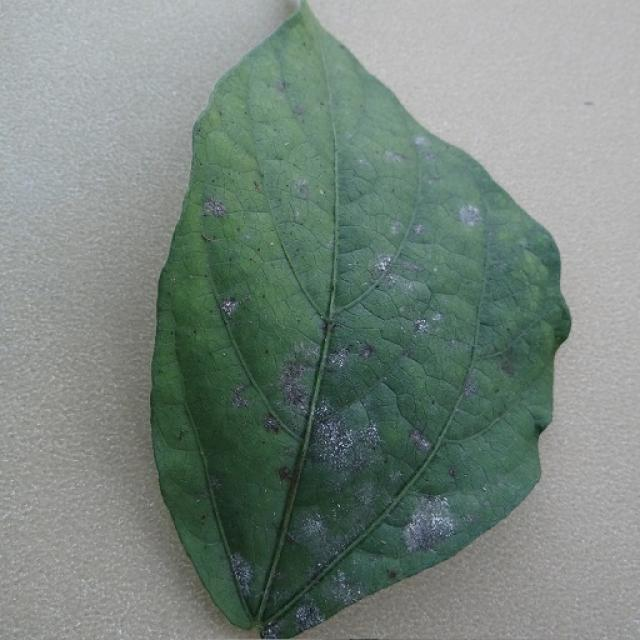Blackgram: (151, 4, 570, 636)
Powdery_Mildew: (309, 408, 372, 475), (397, 491, 459, 552), (373, 261, 429, 309), (277, 357, 312, 412), (293, 511, 333, 552), (352, 478, 386, 513), (324, 343, 359, 376), (230, 557, 254, 592), (330, 568, 353, 596), (409, 429, 432, 454), (423, 311, 447, 333), (458, 204, 481, 226), (203, 198, 227, 219), (372, 255, 394, 277), (231, 385, 250, 409), (461, 376, 478, 399), (403, 533, 421, 553), (305, 607, 323, 627), (293, 179, 310, 199), (220, 298, 238, 316), (262, 415, 280, 433), (296, 606, 313, 625), (385, 150, 406, 165), (387, 468, 404, 486), (413, 318, 429, 334), (209, 475, 223, 492), (389, 222, 403, 237), (414, 135, 429, 148), (413, 223, 427, 236), (423, 150, 436, 162), (517, 237, 528, 248), (358, 157, 369, 167), (441, 496, 450, 507), (433, 266, 438, 273), (336, 503, 341, 509), (482, 485, 487, 491)
